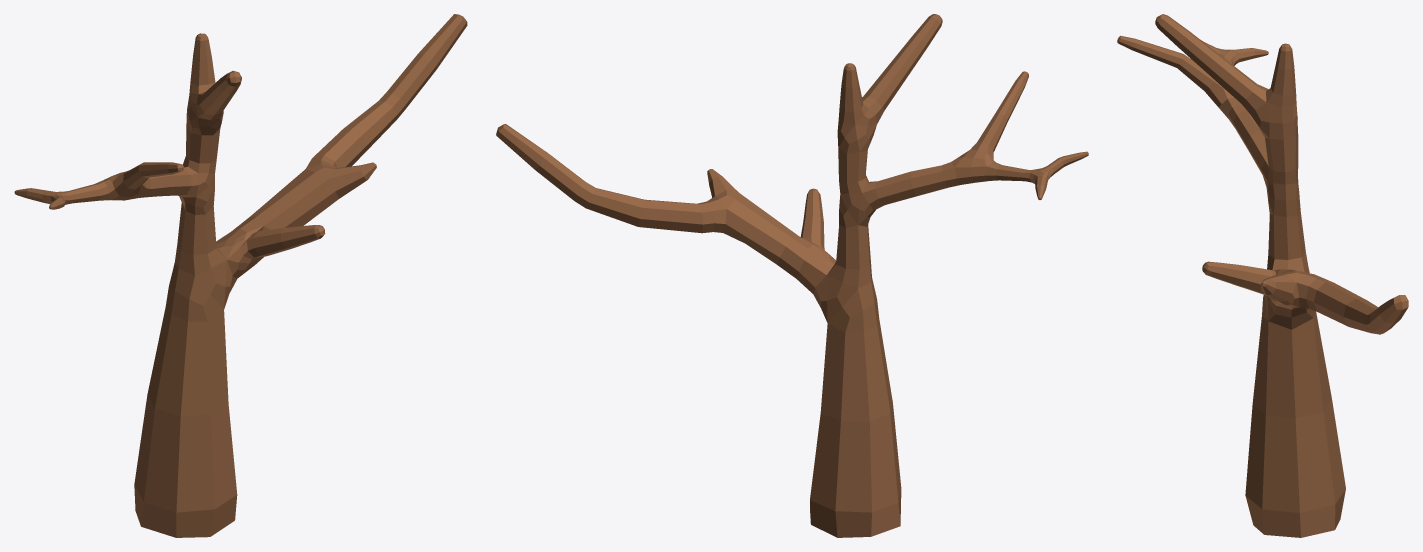
Rendered from tree-winter-trunk-5-037.glb.
3 views of the same model, side by side, from view 1: azimuth 30°, elevation 25°; view 2: azimuth 150°, elevation 25°; view 3: azimuth 270°, elevation 25° (orthographic). The views are drawn at different scales.
Visible parts, largest first — view 1: TREE 5.004_203; view 2: TREE 5.004_203; view 3: TREE 5.004_203.
Part boxes in pixels (left/top/right/bottom): TREE 5.004_203: left=14, top=14, right=467, bottom=537; TREE 5.004_203: left=496, top=14, right=1088, bottom=537; TREE 5.004_203: left=1117, top=14, right=1408, bottom=537.
Bounding box in the file's own units: 1.35 × 1.24 × 0.6543.
